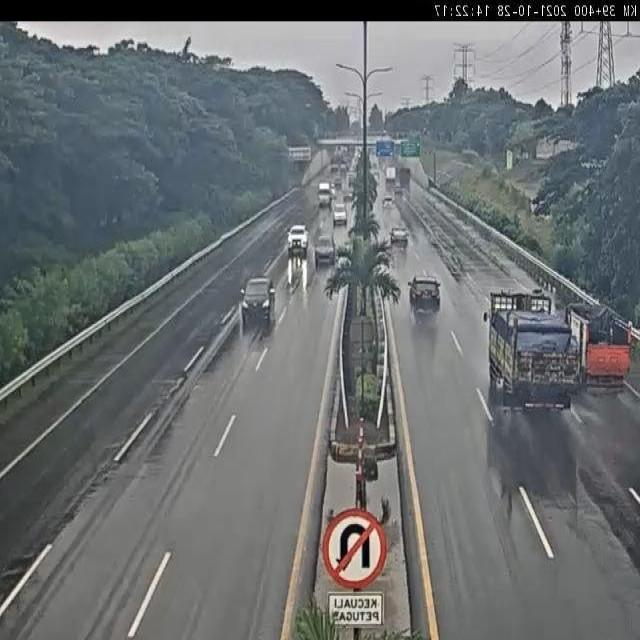Car: (238, 277, 276, 322), (408, 274, 442, 314), (284, 223, 310, 254), (314, 233, 336, 266), (389, 227, 410, 247), (332, 203, 348, 225), (382, 196, 393, 210), (330, 184, 338, 201), (343, 190, 354, 202), (334, 176, 343, 187), (392, 186, 403, 194)
Truck: (482, 286, 582, 416), (563, 300, 634, 400), (317, 181, 333, 206), (399, 167, 410, 182), (385, 165, 396, 179)
